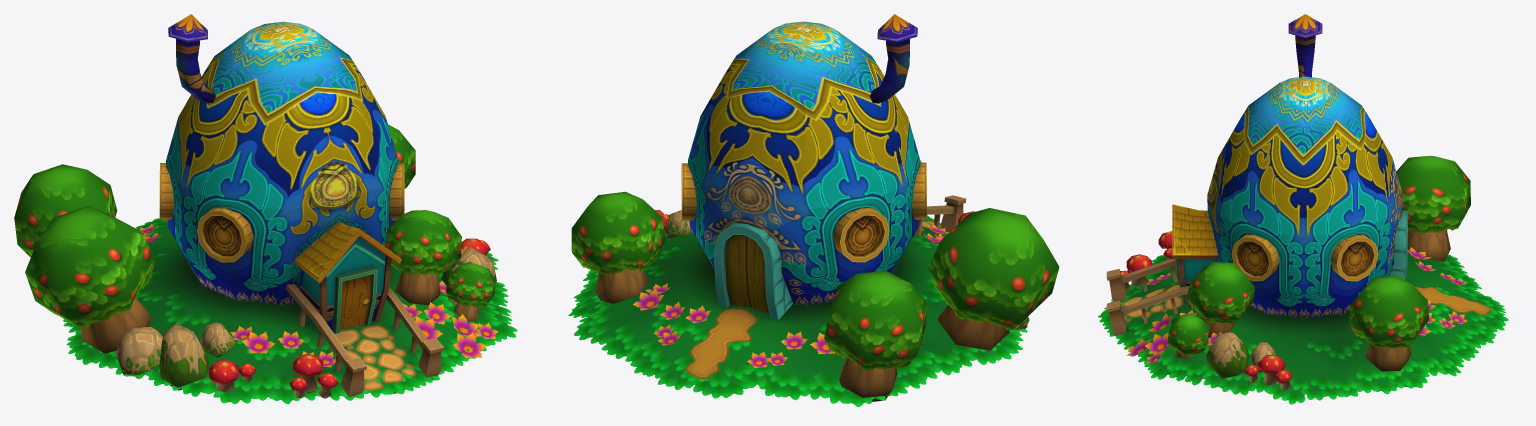
The model's file is Egg_House_07.FBX.
3 views of the same model, side by side, from view 1: azimuth 30°, elevation 25°; view 2: azimuth 150°, elevation 25°; view 3: azimuth 270°, elevation 25° (orthographic). The views are drawn at different scales.
Visible parts, largest first — view 1: Egg_House_07; view 2: Egg_House_07; view 3: Egg_House_07.
Part boxes in pixels (box(x1,y1,x2,y2)): Egg_House_07: box(14, 14, 517, 404); Egg_House_07: box(568, 14, 1059, 406); Egg_House_07: box(1098, 14, 1508, 404).
Size of the model in its own units: 4.89 by 3.22 by 4.67.
